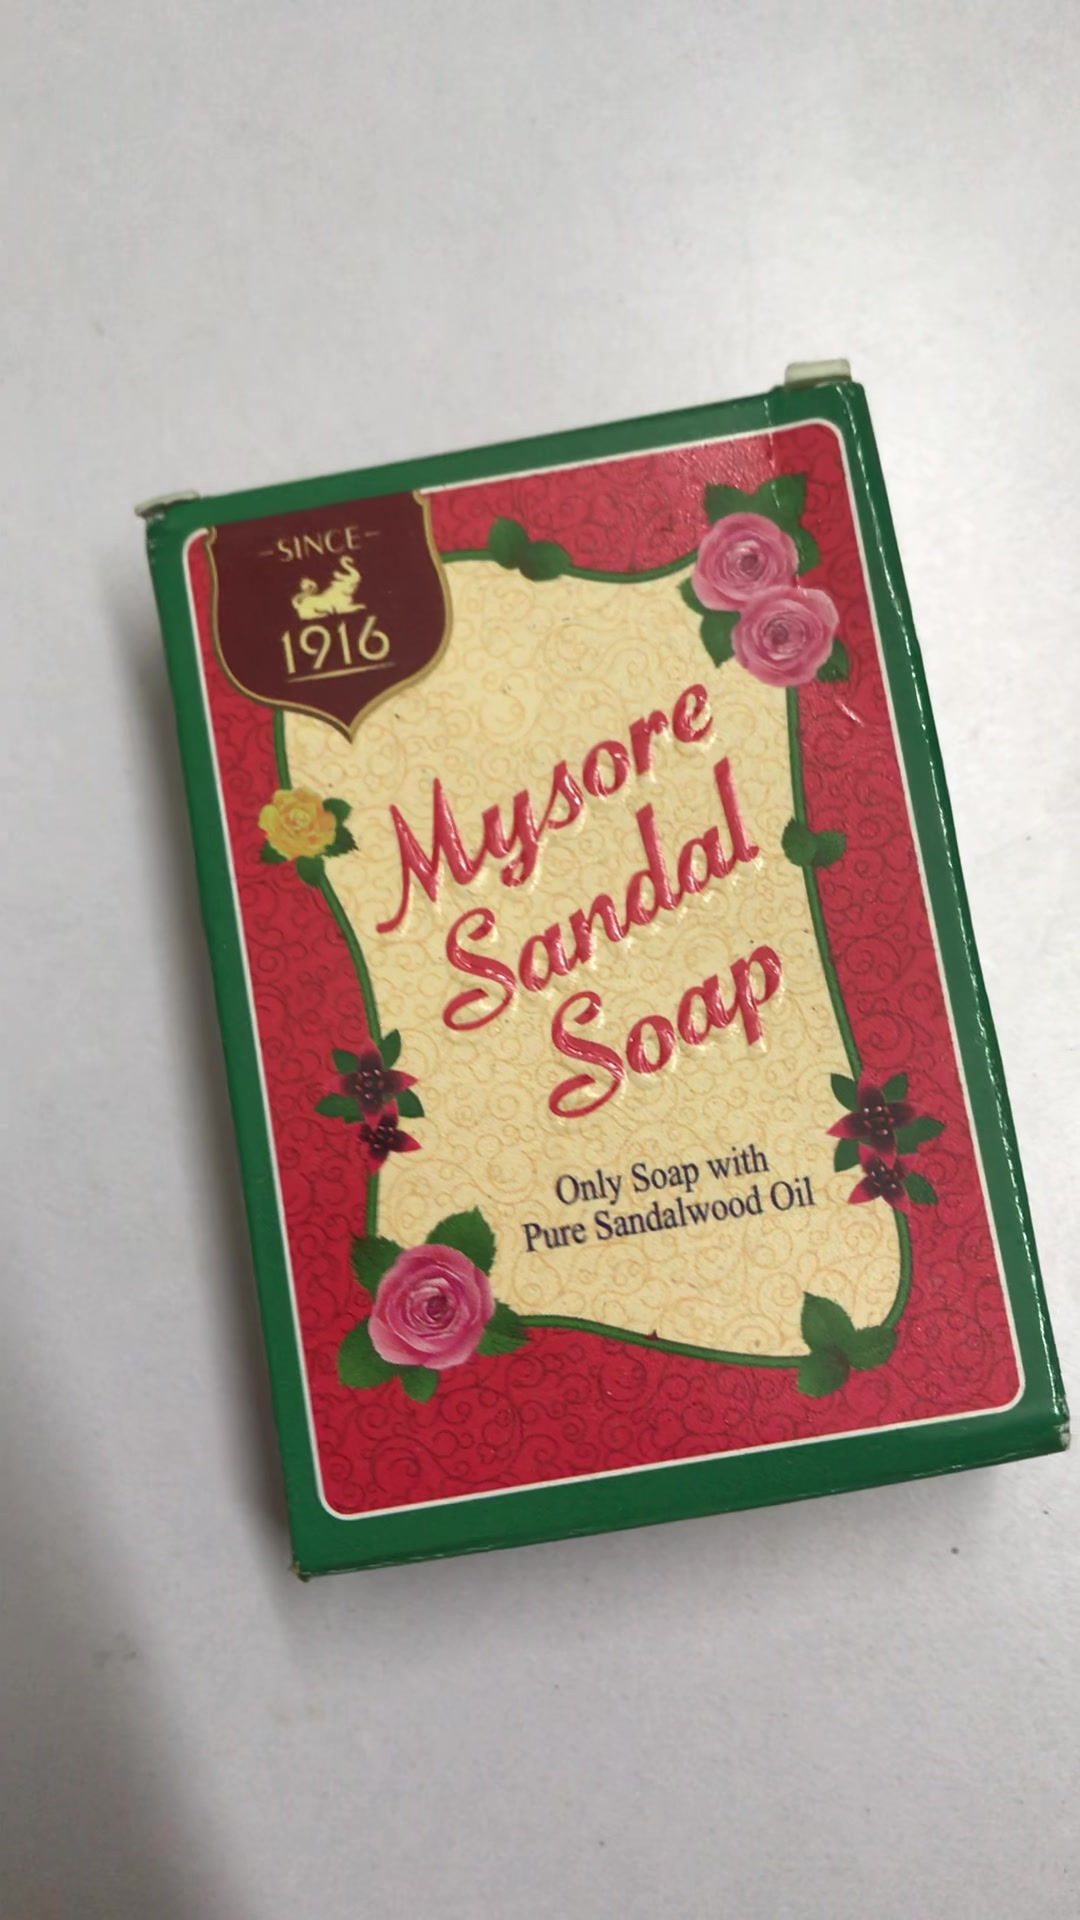mysore sandal soap: (138, 373, 1080, 1572)
